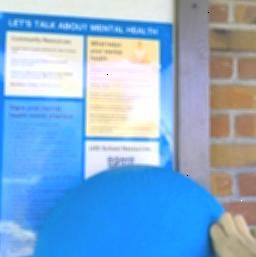algae: (35, 163, 250, 257)
